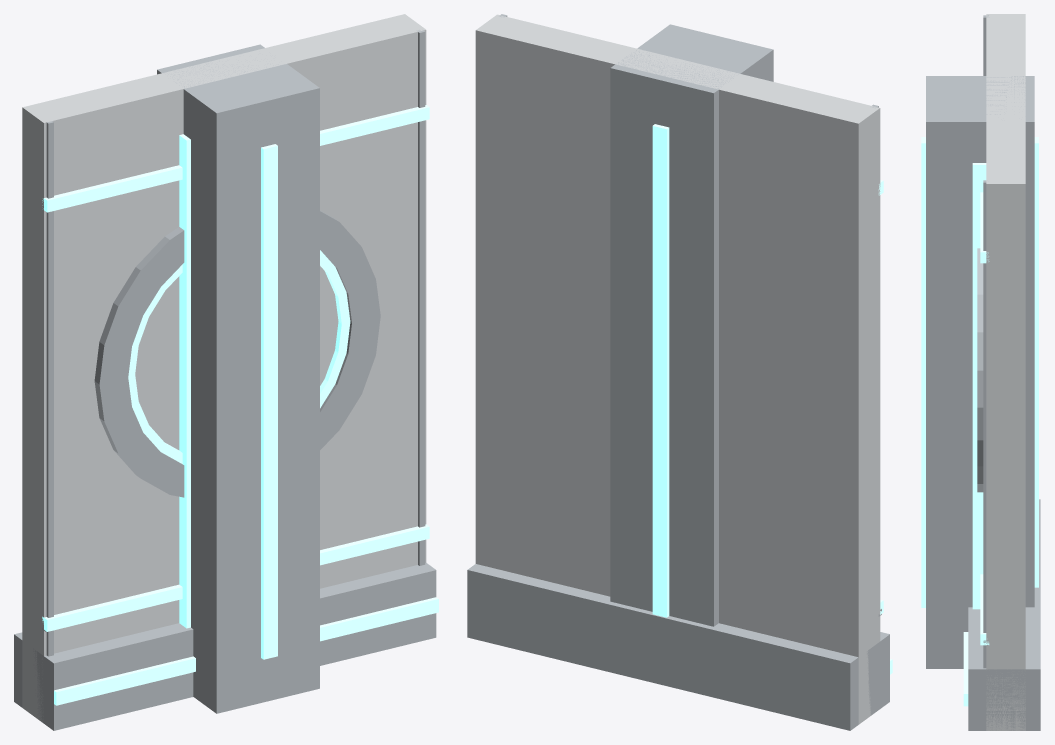
The model's file is facades_orbital.glb.
3 views of the same model, side by side, from view 1: azimuth 30°, elevation 25°; view 2: azimuth 150°, elevation 25°; view 3: azimuth 270°, elevation 25° (orthographic). The views are drawn at different scales.
Visible parts, largest first — view 1: Hull_Panel, Hull_Viewport, Hull_Column, Hull_Cornice, Hull_Band; view 2: Hull_Panel, Hull_Viewport, Hull_Column, Hull_Cornice, Hull_Band; view 3: Hull_Column, Hull_Panel, Hull_Cornice, Hull_Viewport, Hull_Band.
Boxes of the visible parts, x1,y1,x2,y2 form: Hull_Panel: (22,14,429,722); Hull_Viewport: (22,30,426,720); Hull_Column: (157,44,319,713); Hull_Cornice: (14,563,438,730); Hull_Band: (22,433,429,721); Hull_Panel: (475,14,883,724); Hull_Viewport: (475,31,880,723); Hull_Column: (610,24,773,626); Hull_Cornice: (467,564,892,730); Hull_Band: (475,431,883,716); Hull_Column: (921,76,1038,668); Hull_Panel: (980,14,1025,730); Hull_Cornice: (963,499,1040,730); Hull_Viewport: (977,184,1025,730); Hull_Band: (980,549,1025,730).
Size of the model in its own units: 2.67 by 4 by 0.79.
